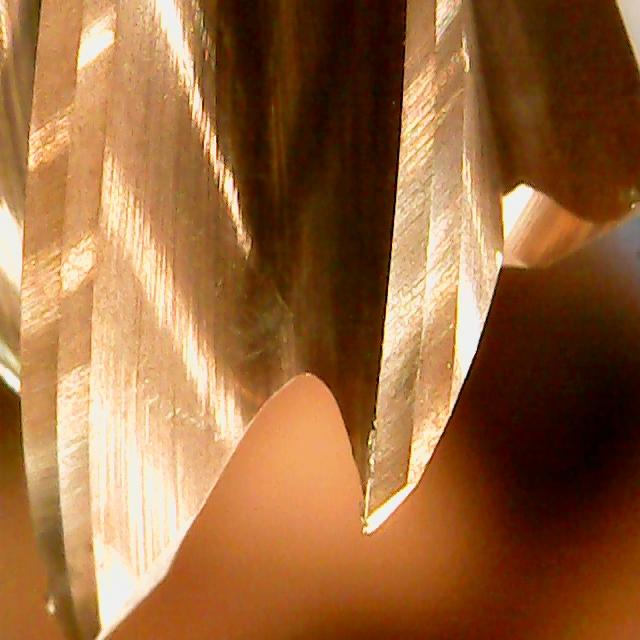Tool-wear-class-1: (332, 223, 487, 542)
